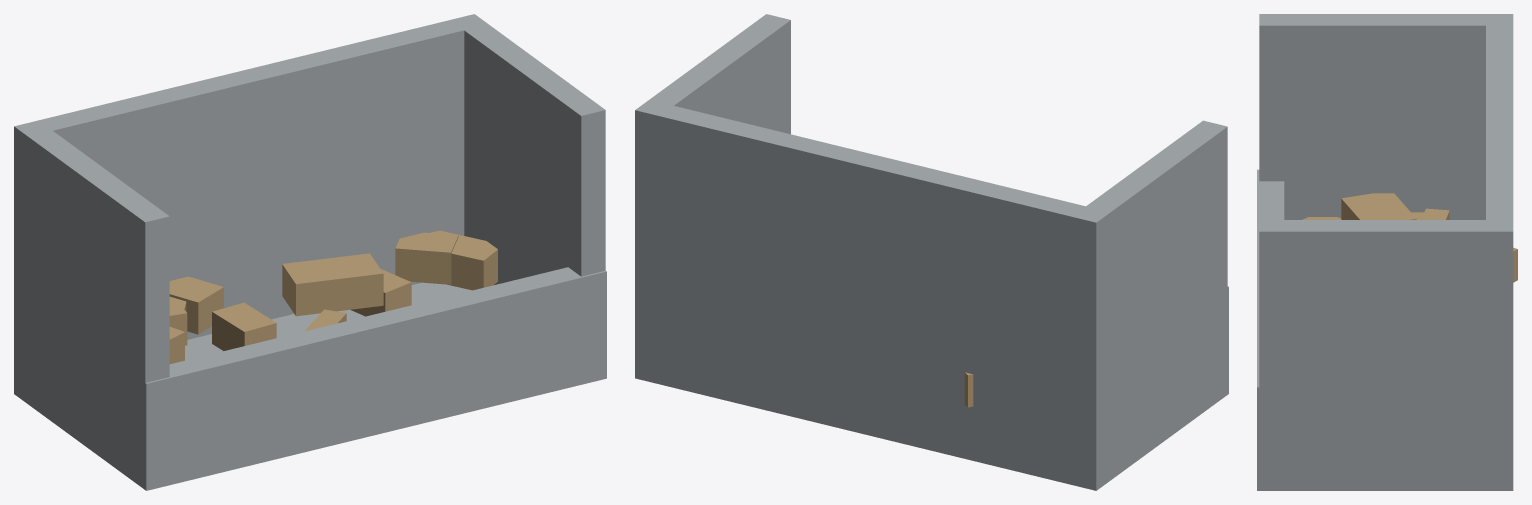
File: dm_partsbin.glb
3 views of the same model, side by side, from view 1: azimuth 30°, elevation 25°; view 2: azimuth 150°, elevation 25°; view 3: azimuth 270°, elevation 25° (orthographic). The views are drawn at different scales.
Visible parts, largest first — view 1: dm_partsbin; view 2: dm_partsbin; view 3: dm_partsbin.
Part boxes in pixels (left/top/right/bottom): dm_partsbin: left=14, top=14, right=606, bottom=490; dm_partsbin: left=635, top=14, right=1228, bottom=490; dm_partsbin: left=1257, top=14, right=1517, bottom=490.
Bounding box in the file's own units: 0.45 × 0.25 × 0.228.
